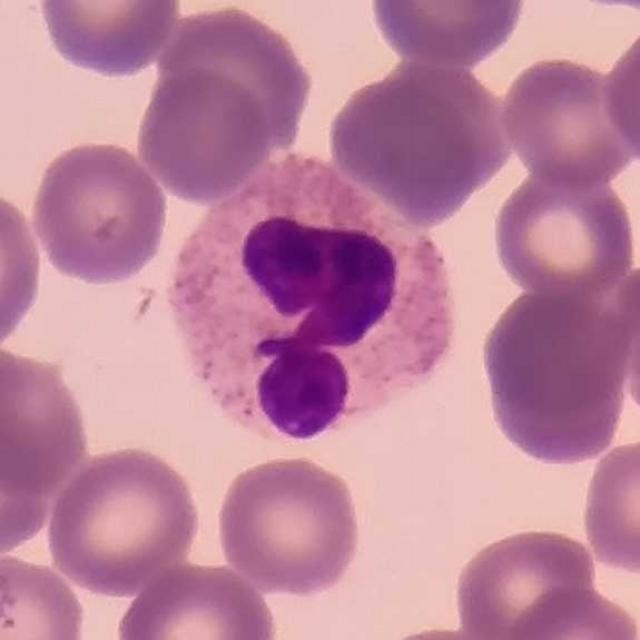Neutrophil: (160, 147, 464, 444)
RBC: (476, 280, 634, 468), (324, 62, 506, 220), (154, 5, 316, 162), (42, 441, 205, 596), (212, 450, 366, 598), (27, 136, 171, 287), (489, 162, 639, 300), (495, 52, 637, 192), (132, 64, 272, 204), (452, 522, 599, 640), (0, 343, 95, 497), (110, 557, 281, 640), (33, 0, 184, 80), (365, 0, 530, 68), (577, 433, 640, 579), (0, 410, 56, 562), (0, 548, 90, 640), (0, 184, 47, 358), (499, 583, 639, 640), (599, 18, 640, 170), (609, 256, 640, 434)
